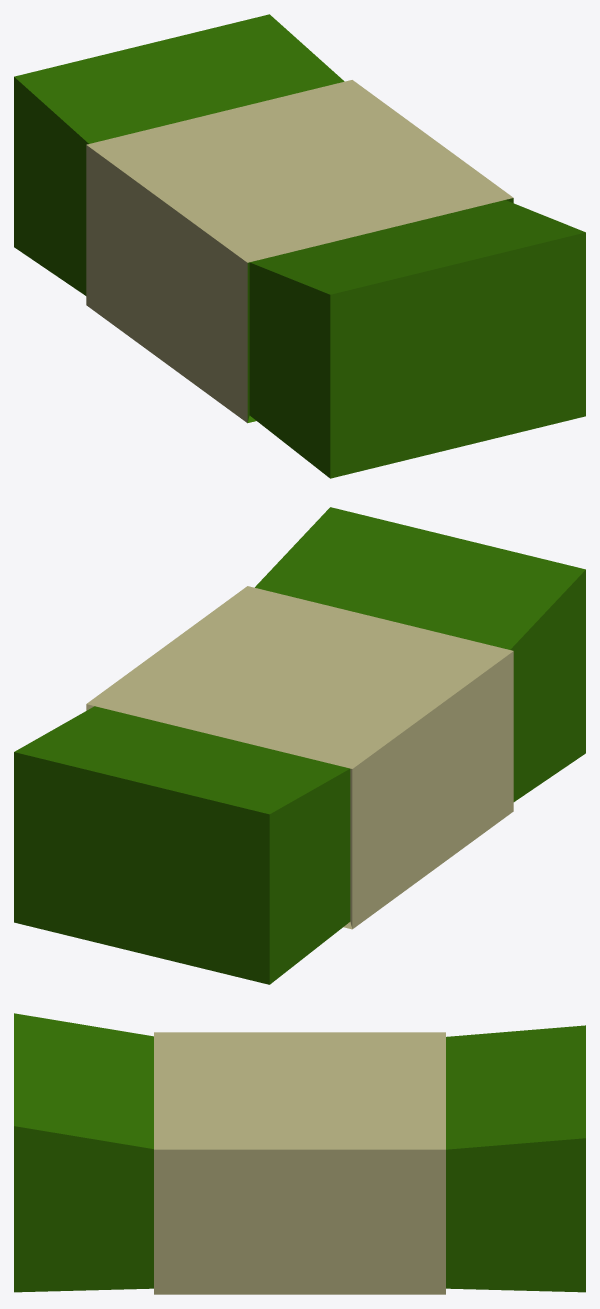
Rendered from moneyPile.fbx.
3 renders of one model, top to bottom at view 1: azimuth 30°, elevation 25°; view 2: azimuth 150°, elevation 25°; view 3: azimuth 270°, elevation 25°, orthographic. The views are drawn at different scales.
Parts seen in each view (by area): view 1: Cube.001; view 2: Cube.001; view 3: Cube.001.
Part boxes in pixels (x1=…): Cube.001: x1=14, y1=14, x2=585, y2=478; Cube.001: x1=14, y1=507, x2=585, y2=984; Cube.001: x1=14, y1=1013, x2=585, y2=1294.
Bounding box in the file's own units: 72.89 × 48.12 × 150.
